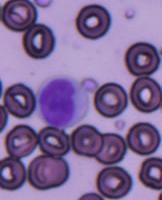M: (36, 74, 89, 128)
